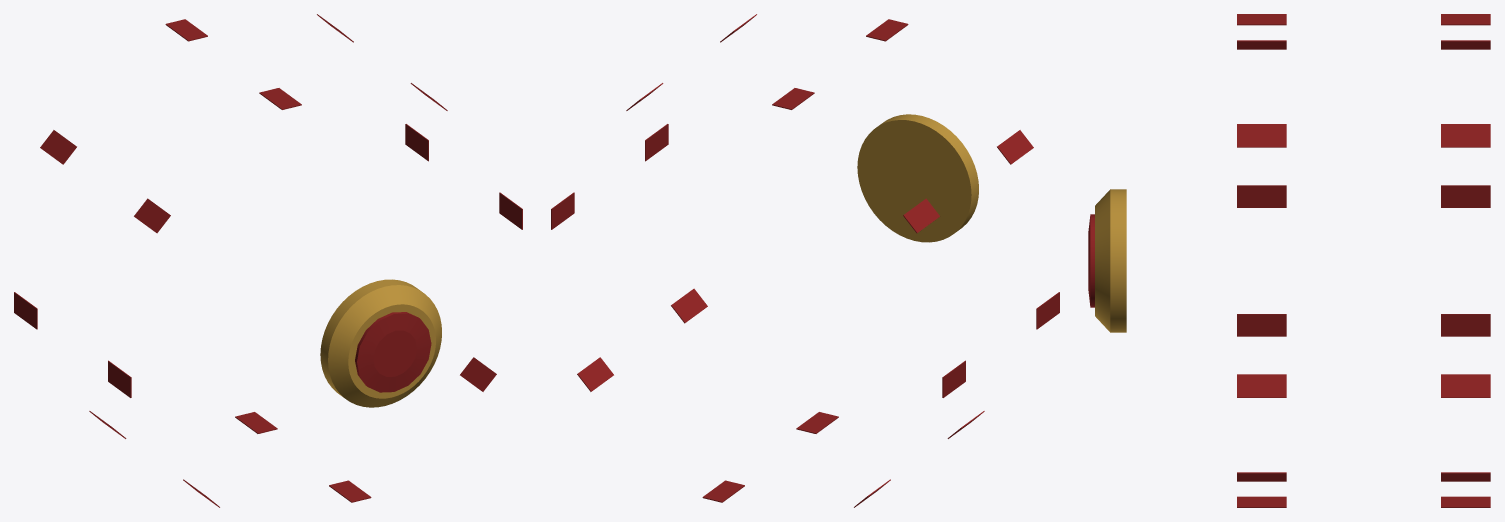
Rendered from h80_seal.obj.
3 renders of one model, left to right at view 1: azimuth 30°, elevation 25°; view 2: azimuth 150°, elevation 25°; view 3: azimuth 270°, elevation 25°, orthographic. The views are drawn at different scales.
Visible parts, largest first — view 1: h80_seal; view 2: h80_seal; view 3: h80_seal.
Boxes of the visible parts, box(x1,y1,x2,y2) form: h80_seal: box(14, 14, 522, 507); h80_seal: box(551, 14, 1059, 507); h80_seal: box(1088, 14, 1490, 507).
Bounding box in the file's own units: 4.5 × 4.5 × 3.68.
